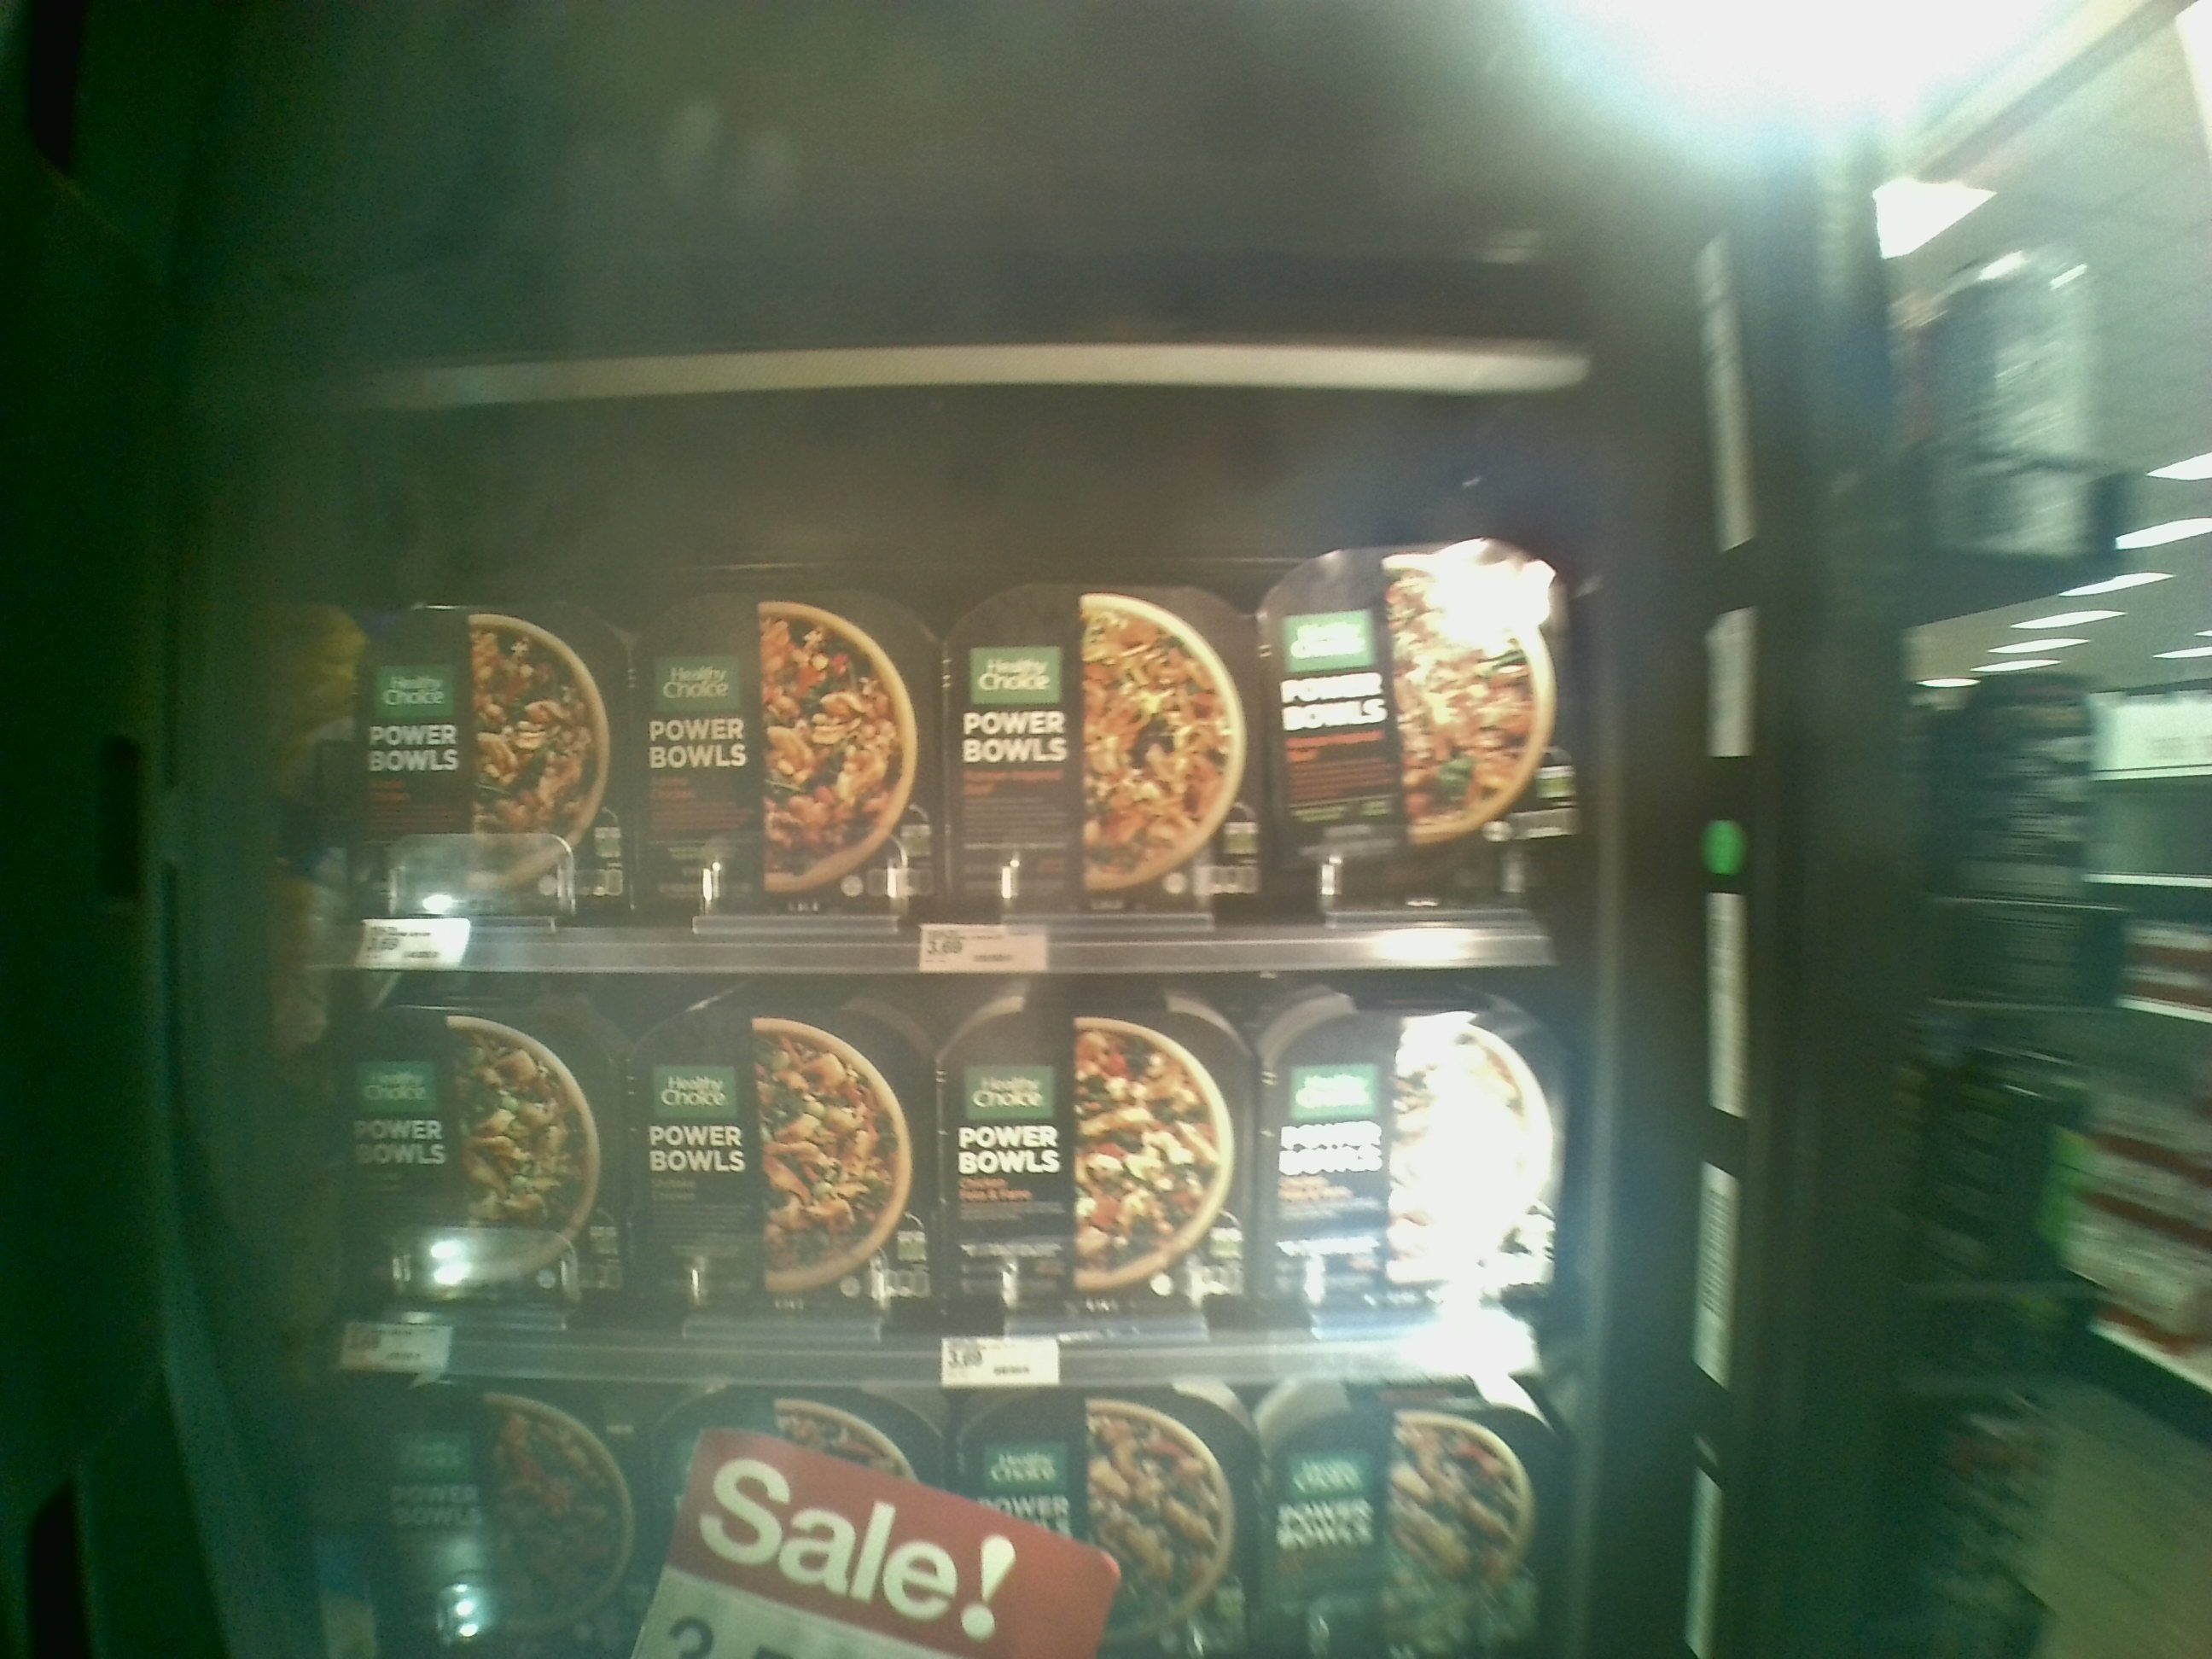shelf: (294, 350, 1555, 979), (312, 953, 1557, 1387)
